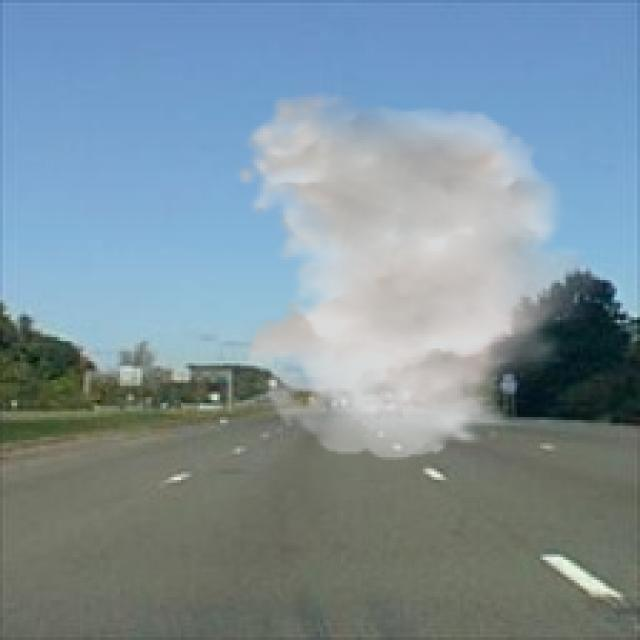Smoke: (234, 91, 612, 460)
